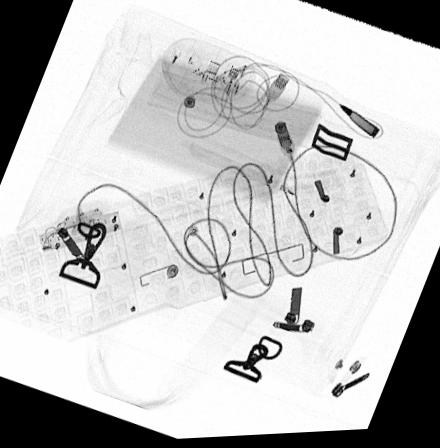Bullet: (337, 106, 379, 142)
